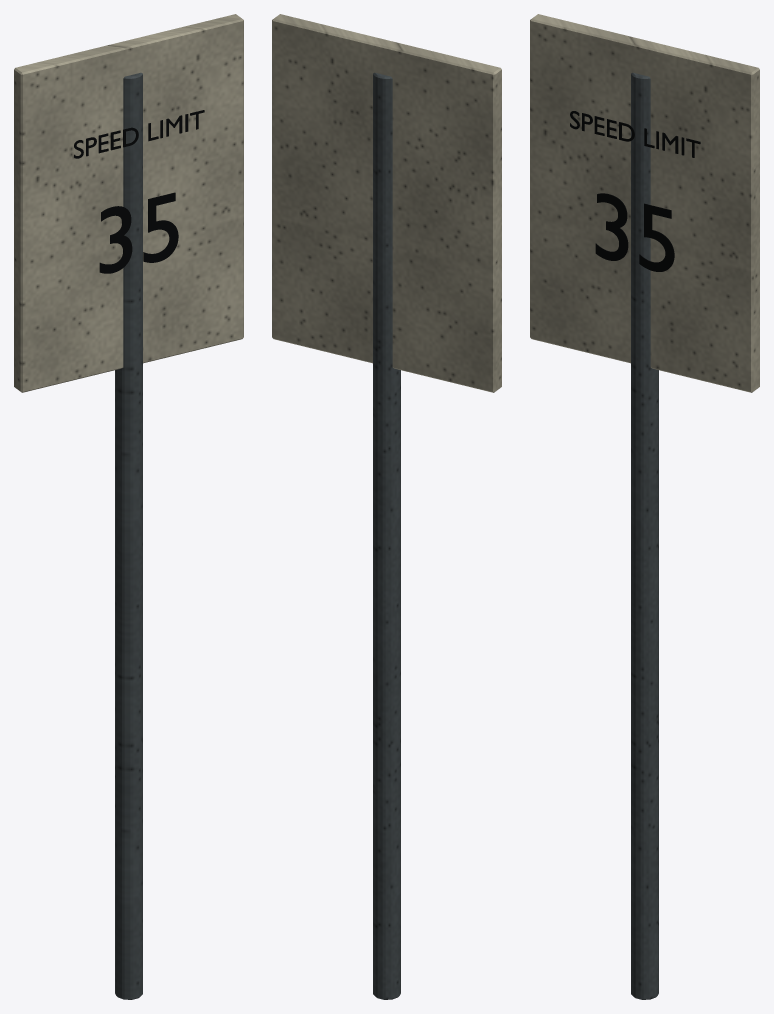
The model's file is PROP-44C775E16189_lod1.glb.
3 renders of one model, left to right at view 1: azimuth 30°, elevation 25°; view 2: azimuth 150°, elevation 25°; view 3: azimuth 330°, elevation 25°, orthographic.
Parts seen in each view (by area): view 1: sign_plate.019, sign_post.026, sign_letters_35.001, sign_letters_SPEED LIMIT.002; view 2: sign_plate.019, sign_post.026; view 3: sign_plate.019, sign_post.026, sign_letters_35.001, sign_letters_SPEED LIMIT.002.
Boxes of the visible parts, x1,y1,x2,y2 form: sign_plate.019: (14, 14, 243, 392); sign_post.026: (115, 72, 142, 999); sign_letters_35.001: (99, 192, 178, 273); sign_letters_SPEED LIMIT.002: (74, 110, 204, 158); sign_plate.019: (272, 14, 501, 392); sign_post.026: (373, 72, 400, 999); sign_plate.019: (530, 14, 759, 392); sign_post.026: (631, 72, 658, 999); sign_letters_35.001: (595, 193, 674, 271); sign_letters_SPEED LIMIT.002: (570, 111, 700, 157).
Size of the model in its own units: 0.62 by 2.52 by 0.0823.
Materials: 3 (3 with a texture image).
